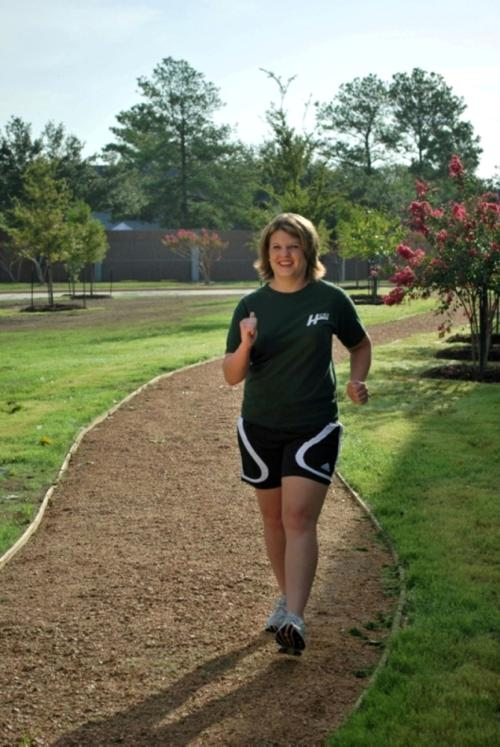person: (222, 213, 373, 663)
